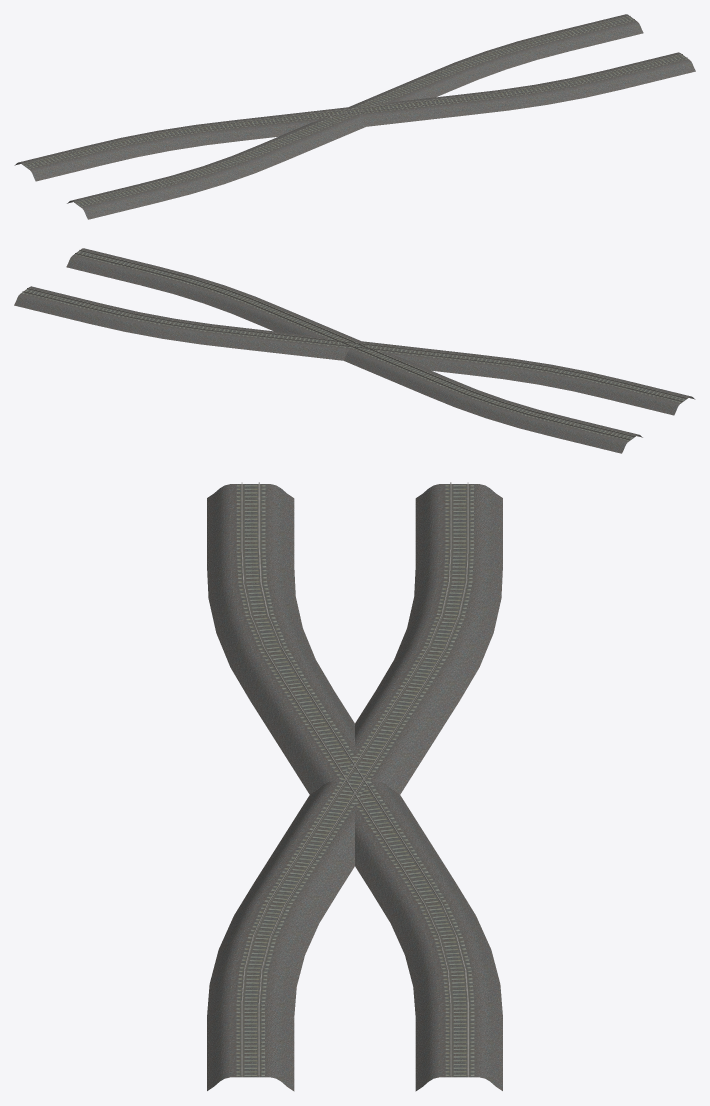
File: Rail_Crossings-A.fbx
3 renders of one model, top to bottom at view 1: azimuth 30°, elevation 25°; view 2: azimuth 150°, elevation 25°; view 3: azimuth 270°, elevation 25°, orthographic. The views are drawn at different scales.
Visible parts, largest first — view 1: Rail_Crossings-A; view 2: Rail_Crossings-A; view 3: Rail_Crossings-A.
Boxes of the visible parts, x1,y1,x2,y2 form: Rail_Crossings-A: (14,14,695,219); Rail_Crossings-A: (14,248,695,453); Rail_Crossings-A: (207,482,502,1091).
Bounding box in the file's own units: 90 × 18.99 × 1.12.
